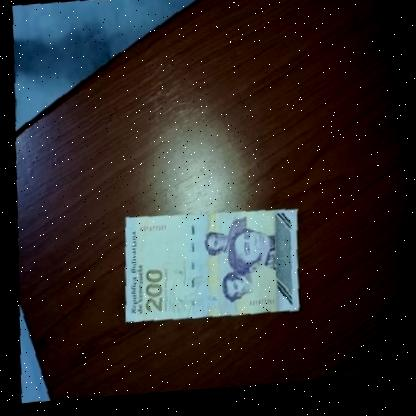two_hundred-front-vef: (115, 200, 303, 334)
